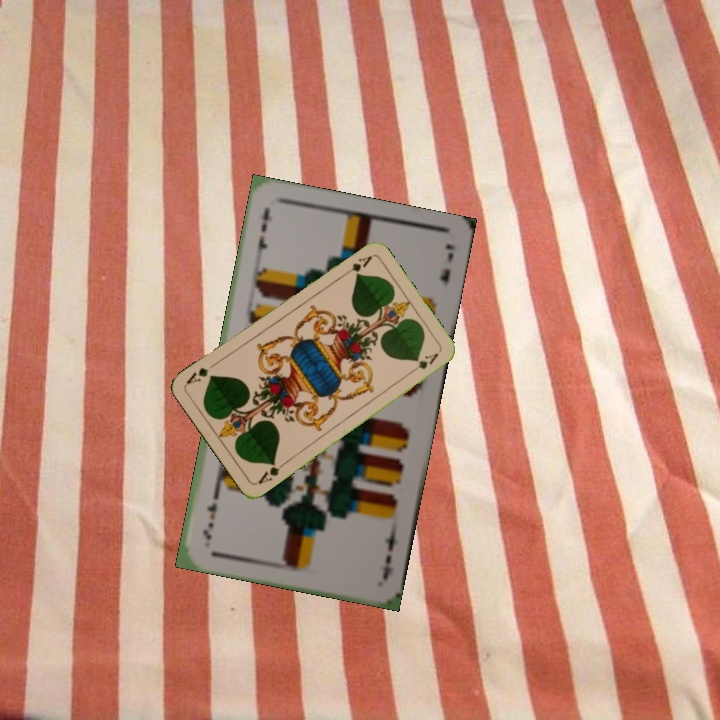E7: (251, 202, 273, 262), (378, 523, 400, 582)
GA: (338, 251, 375, 279), (254, 458, 289, 487)
